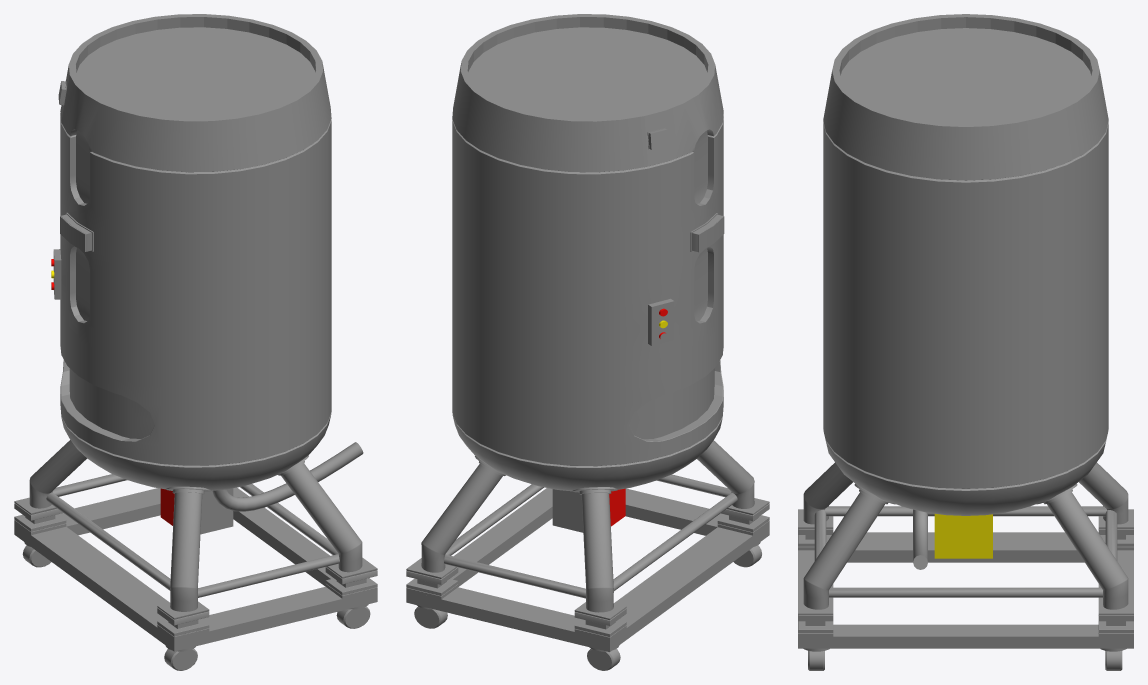
The model's file is Flex_MachineJr.FBX.
3 views of the same model, side by side, from view 1: azimuth 30°, elevation 25°; view 2: azimuth 150°, elevation 25°; view 3: azimuth 270°, elevation 25° (orthographic). The views are drawn at different scales.
Parts seen in each view (by area): view 1: Flex machine001, Glass; view 2: Flex machine001, Glass; view 3: Flex machine001.
Part boxes in pixels (x1,y1,x2,y2): Flex machine001: [14, 14, 377, 670]; Glass: [69, 130, 154, 438]; Flex machine001: [406, 14, 769, 670]; Glass: [629, 130, 714, 439]; Flex machine001: [798, 14, 1133, 670].
Size of the model in its own units: 99.1 by 185 by 102.
